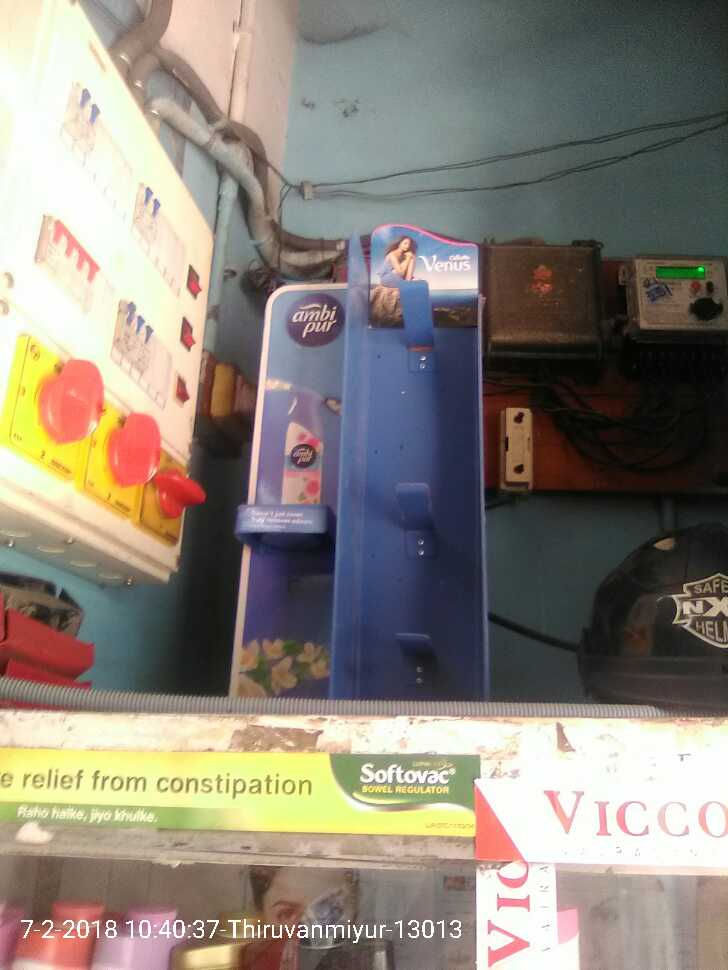reject: (364, 407, 427, 465)
